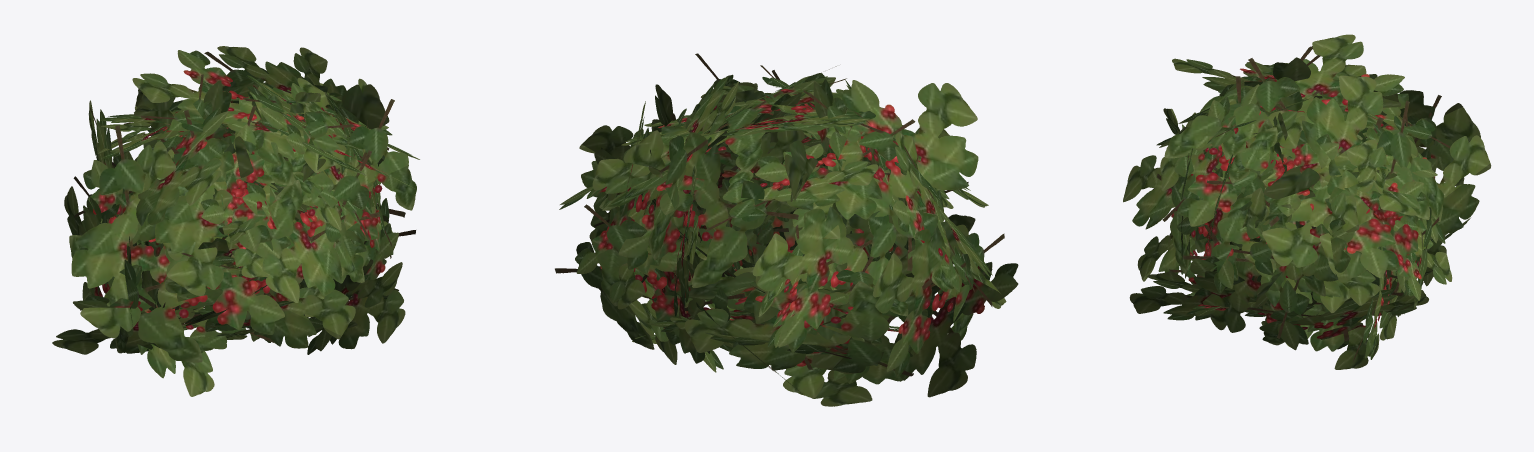
File: bush_lod2.glb
3 views of the same model, side by side, from view 1: azimuth 30°, elevation 25°; view 2: azimuth 150°, elevation 25°; view 3: azimuth 270°, elevation 25° (orthographic). The views are drawn at different scales.
Parts seen in each view (by area): view 1: bush_lod2; view 2: bush_lod2; view 3: bush_lod2.
Boxes of the visible parts, box(x1,y1,x2,y2) form: bush_lod2: box(52, 46, 419, 396); bush_lod2: box(555, 53, 1018, 406); bush_lod2: box(1123, 34, 1491, 369).
Bounding box in the file's own units: 1.92 × 1.55 × 1.61.
2 materials, 2 textured.
